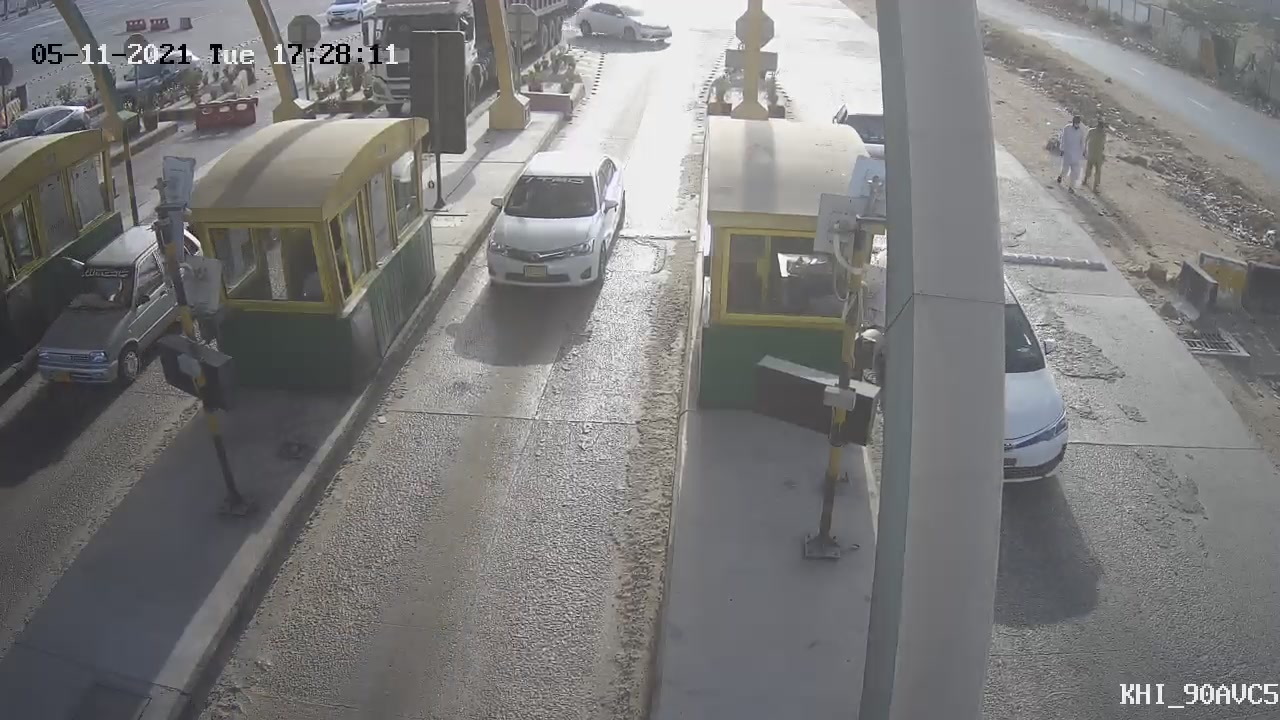F1: (466, 138, 643, 311)
